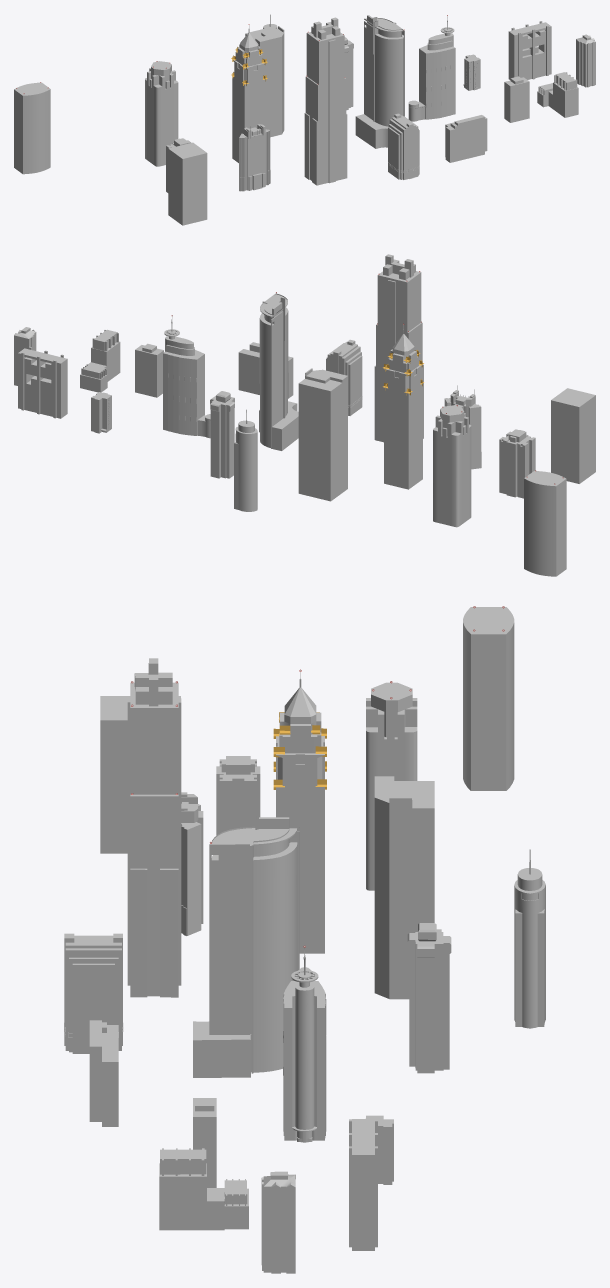
The model's file is BACKGROUND_CITY_SKYLINE.fbx.
3 views of the same model, one above another, from view 1: azimuth 30°, elevation 25°; view 2: azimuth 150°, elevation 25°; view 3: azimuth 270°, elevation 25° (orthographic). The views are drawn at different scales.
Parts seen in each view (by area): view 1: BACKGROUND_BUILDINGS_1.009, BACKGROUND_BUILDING_2, BACKGROUND_BUILDINGS_1, BACKGROUND_BUILDINGS_1.007, BACKGROUND_BUILDING_2.008, BACKGROUND_BUILDINGS_1.002, BACKGROUND_BUILDINGS_1.008, BACKGROUND_BUILDING_2.007, BACKGROUND_BUILDING_2.005, BACKGROUND_BUILDINGS_1.004, BACKGROUND_BUILDING_2.001, BACKGROUND_BUILDING_2.002 (+5 smaller); view 2: BACKGROUND_BUILDING_2.007, BACKGROUND_BUILDINGS_1.008, BACKGROUND_BUILDINGS_1.009, BACKGROUND_BUILDING_2, BACKGROUND_BUILDING_2.008, BACKGROUND_BUILDINGS_1.007, BACKGROUND_BUILDINGS_1, BACKGROUND_BUILDINGS_1.002, BACKGROUND_BUILDING_2.005, BACKGROUND_BUILDINGS_1.001, BACKGROUND_BUILDINGS_1.003, BACKGROUND_BUILDINGS_1.006 (+7 smaller); view 3: BACKGROUND_BUILDING_2, BACKGROUND_BUILDINGS_1.009, BACKGROUND_BUILDING_2.007, BACKGROUND_BUILDINGS_1.007, BACKGROUND_BUILDINGS_1.008, BACKGROUND_BUILDINGS_1, BACKGROUND_BUILDING_2.001, BACKGROUND_BUILDINGS_1.006, BACKGROUND_BUILDING_2.004, BACKGROUND_BUILDING_2.008, BACKGROUND_BUILDINGS_1.001, BACKGROUND_BUILDINGS_1.002 (+7 smaller).
Part boxes in pixels (x1,y1,x2,y2): BACKGROUND_BUILDINGS_1.009: [304, 17, 347, 185]; BACKGROUND_BUILDING_2: [355, 15, 404, 148]; BACKGROUND_BUILDINGS_1: [408, 16, 455, 121]; BACKGROUND_BUILDINGS_1.007: [14, 82, 50, 174]; BACKGROUND_BUILDING_2.008: [145, 61, 178, 166]; BACKGROUND_BUILDINGS_1.002: [168, 142, 207, 225]; BACKGROUND_BUILDINGS_1.008: [232, 25, 265, 162]; BACKGROUND_BUILDING_2.007: [245, 26, 284, 137]; BACKGROUND_BUILDING_2.005: [508, 21, 551, 80]; BACKGROUND_BUILDINGS_1.004: [239, 124, 270, 191]; BACKGROUND_BUILDING_2.001: [388, 113, 419, 179]; BACKGROUND_BUILDING_2.002: [445, 115, 487, 162]; BACKGROUND_BUILDING_2.007: [298, 368, 347, 501]; BACKGROUND_BUILDINGS_1.008: [384, 325, 422, 489]; BACKGROUND_BUILDINGS_1.009: [374, 254, 423, 442]; BACKGROUND_BUILDING_2: [259, 293, 298, 450]; BACKGROUND_BUILDING_2.008: [433, 405, 471, 527]; BACKGROUND_BUILDINGS_1.007: [524, 471, 566, 576]; BACKGROUND_BUILDINGS_1: [163, 316, 210, 438]; BACKGROUND_BUILDINGS_1.002: [551, 388, 595, 483]; BACKGROUND_BUILDING_2.005: [18, 346, 67, 418]; BACKGROUND_BUILDINGS_1.001: [234, 409, 257, 511]; BACKGROUND_BUILDINGS_1.003: [499, 429, 535, 498]; BACKGROUND_BUILDINGS_1.006: [210, 391, 234, 478]; BACKGROUND_BUILDING_2: [193, 808, 299, 1077]; BACKGROUND_BUILDINGS_1.009: [127, 658, 181, 997]; BACKGROUND_BUILDING_2.007: [374, 776, 434, 999]; BACKGROUND_BUILDINGS_1.007: [463, 607, 514, 790]; BACKGROUND_BUILDINGS_1.008: [276, 672, 324, 953]; BACKGROUND_BUILDINGS_1: [283, 947, 326, 1142]; BACKGROUND_BUILDING_2.001: [64, 933, 123, 1053]; BACKGROUND_BUILDINGS_1.006: [407, 923, 451, 1073]; BACKGROUND_BUILDING_2.004: [159, 1148, 248, 1230]; BACKGROUND_BUILDING_2.008: [366, 682, 417, 890]; BACKGROUND_BUILDINGS_1.001: [514, 849, 545, 1028]; BACKGROUND_BUILDINGS_1.002: [100, 696, 127, 853].
Bounding box in the file's own units: 104851 × 30051 × 41867.
